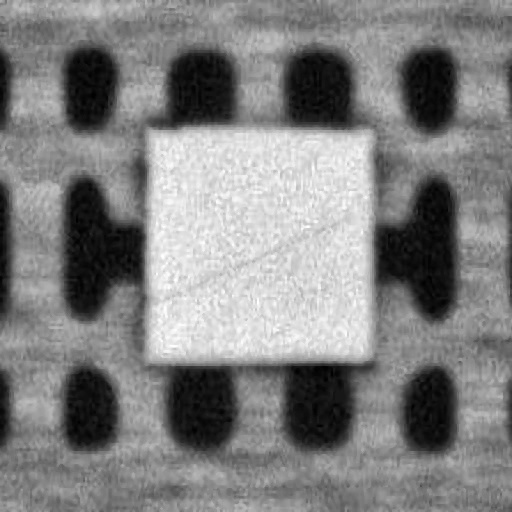DIE_CRACK: (228, 141, 512, 200)
